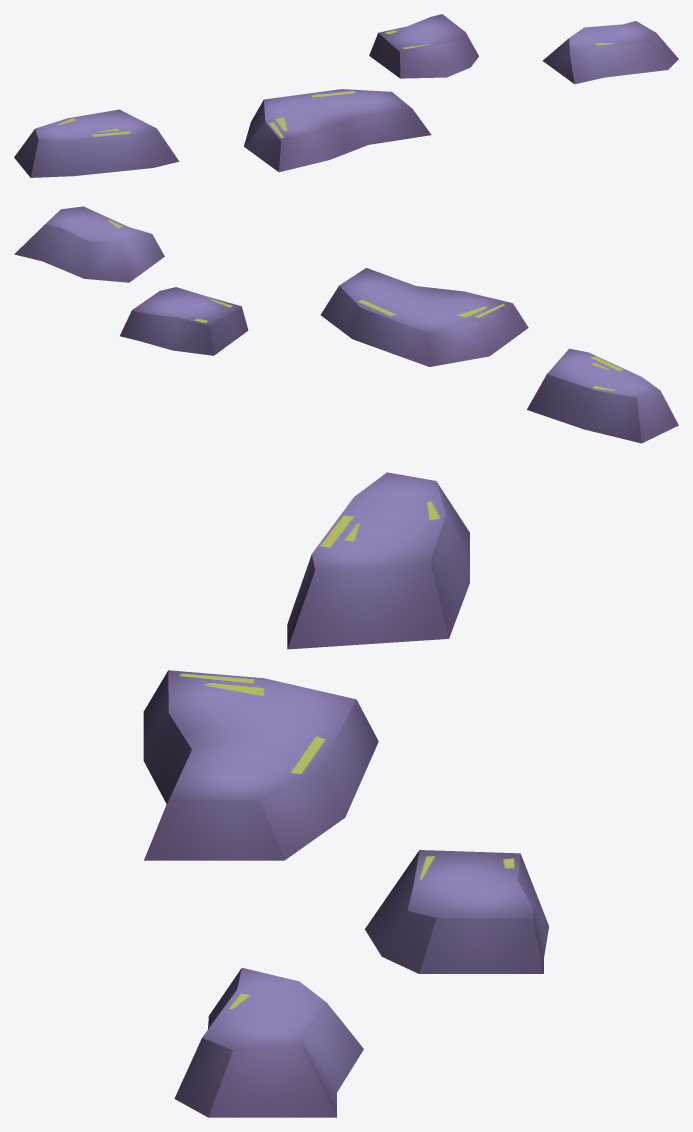
File: SM_RiverRockPath.FBX
The picture shows the model from 3 angles, top to bottom: view 1: azimuth 30°, elevation 25°; view 2: azimuth 150°, elevation 25°; view 3: azimuth 270°, elevation 25°; orthographic projection. The views are drawn at different scales.
Visible parts, largest first — view 1: Box020; view 2: Box020; view 3: Box020.
Boxes of the visible parts, x1,y1,x2,y2 form: Box020: [14, 14, 678, 177]; Box020: [14, 206, 678, 443]; Box020: [143, 472, 548, 1117].
Bounding box in the file's own units: 71.44 × 3.59 × 20.62.
